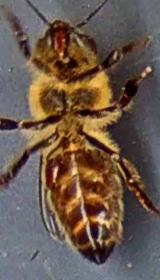varroa_mite: (40, 154, 71, 190)
